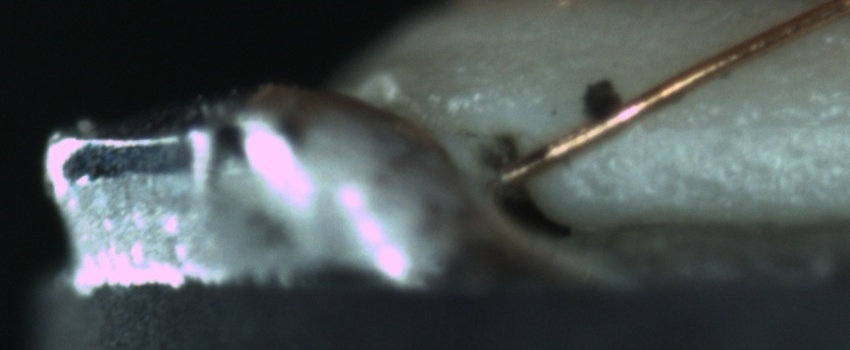DL: (632, 84, 850, 157)
